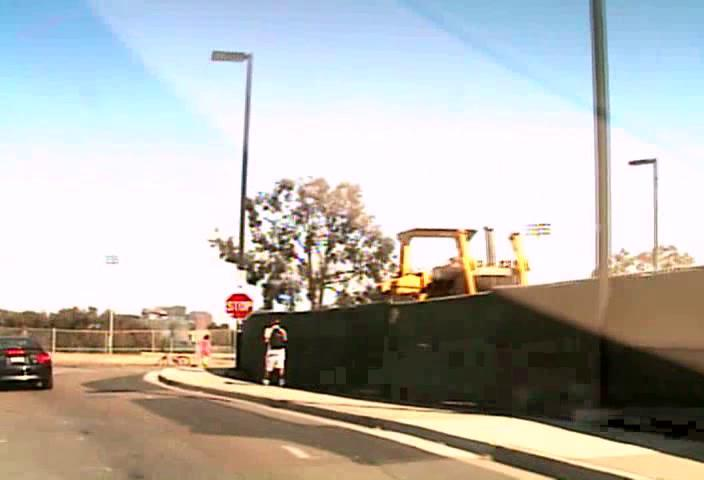stop: (223, 292, 254, 320)
